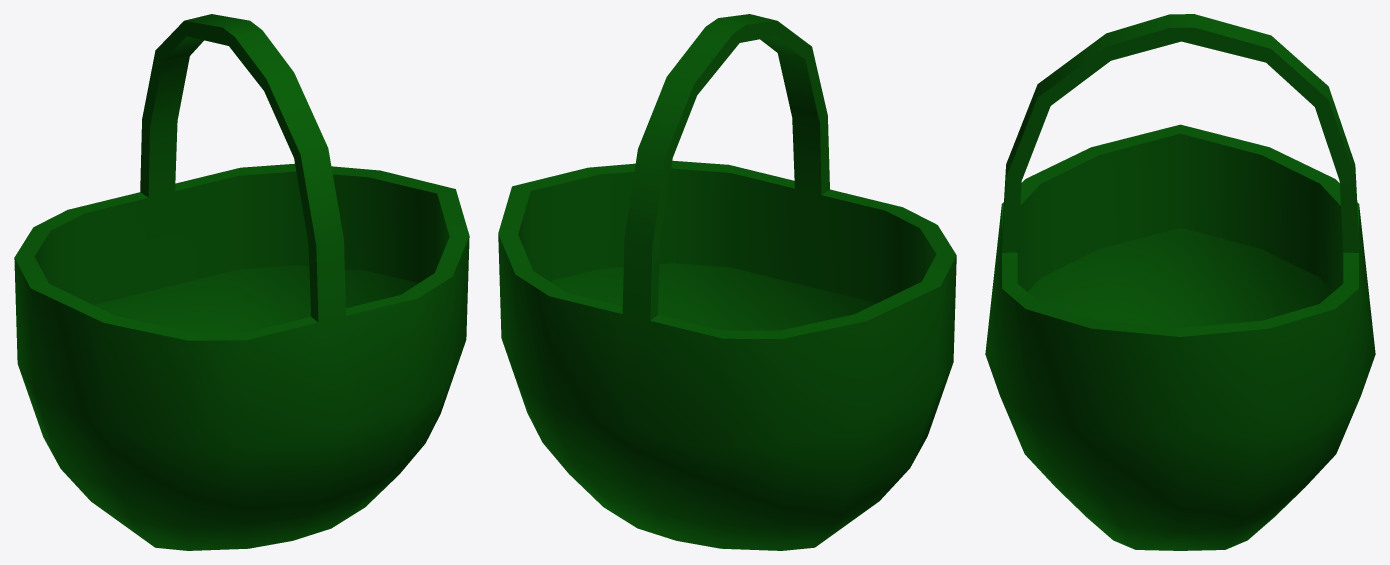
Rendered from hamper03.FBX.
3 renders of one model, left to right at view 1: azimuth 30°, elevation 25°; view 2: azimuth 150°, elevation 25°; view 3: azimuth 270°, elevation 25°, orthographic.
Visible parts, largest first — view 1: SM_hamper03_0; view 2: SM_hamper03_0; view 3: SM_hamper03_0.
Part boxes in pixels (x1,y1,x2,y2): SM_hamper03_0: (14,14,469,550); SM_hamper03_0: (498,14,956,550); SM_hamper03_0: (985,14,1375,550).
Bounding box in the file's own units: 61.56 × 48.83 × 65.75.
